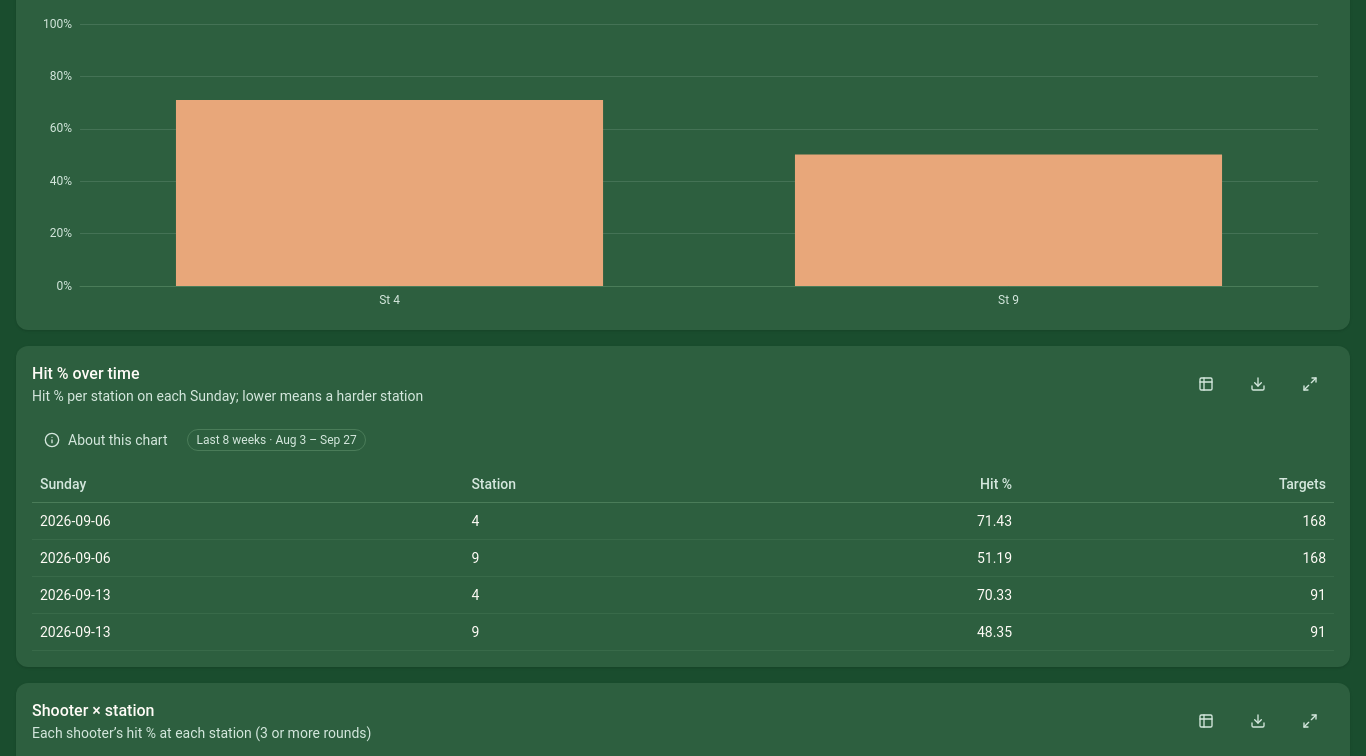
Test: StationsPage › Hit % over time: the card follows the window, fullscreen and CSV cover every Sunday › shows the windowed Sundays inline and every Sunday in fullscreen
(page scrolled)
What coordinates should you click on to do the following:
click the button named "Fullscreen" in the row of "Hit % over time"
I would click on:
 (1310, 384)
Its box is [1286,362,1334,406].
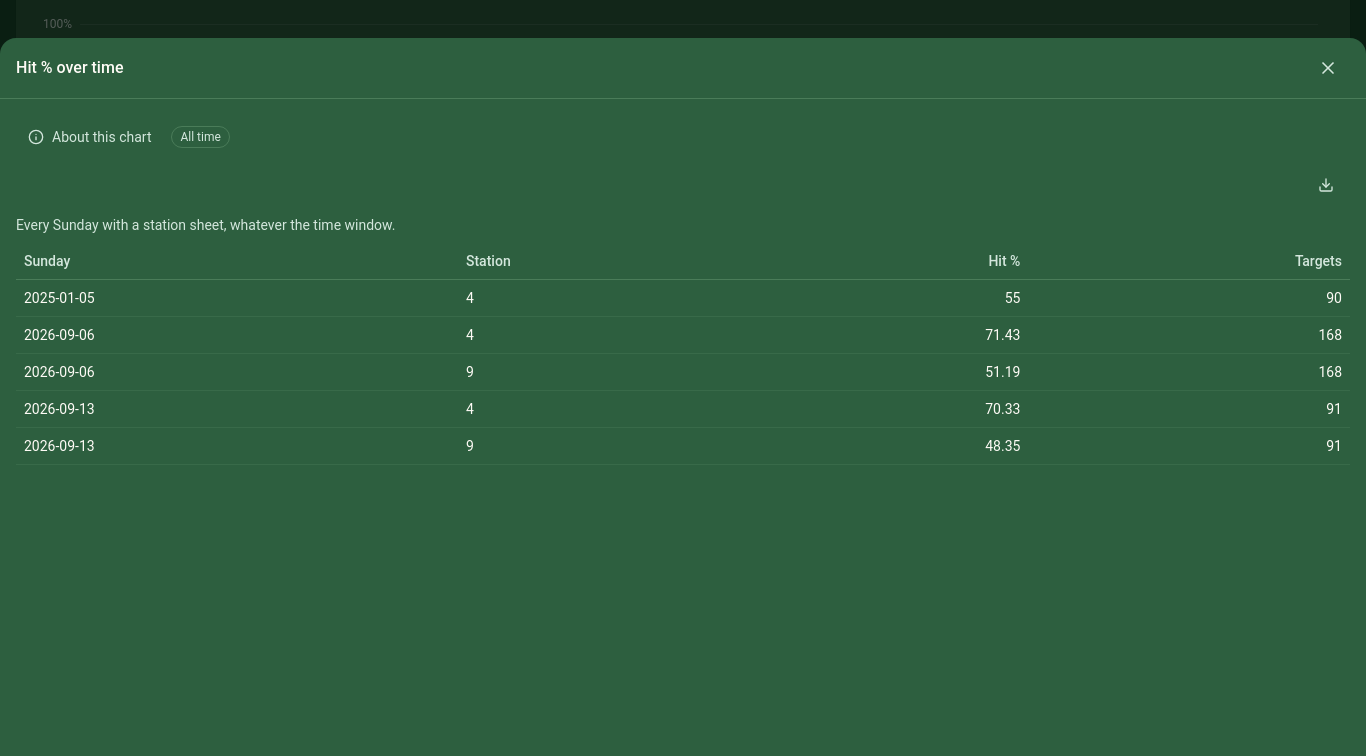
expect the button "All time" is shown: met, box [172,126,230,148]
expect the text "Every Sunday with a station sheet, whatever the time window." is shown: met, box [16,217,395,233]
